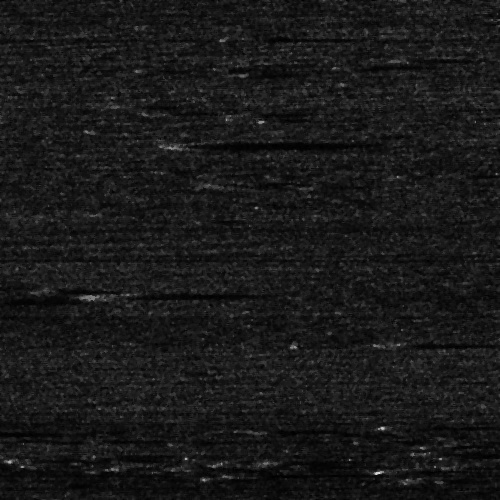object: (141, 136, 214, 147), (353, 337, 426, 344), (92, 290, 155, 297), (228, 426, 291, 431), (0, 295, 4, 302)
shadow: (178, 136, 360, 147), (124, 290, 268, 297), (390, 337, 500, 344), (0, 428, 92, 435), (260, 426, 376, 431), (0, 295, 22, 302)
